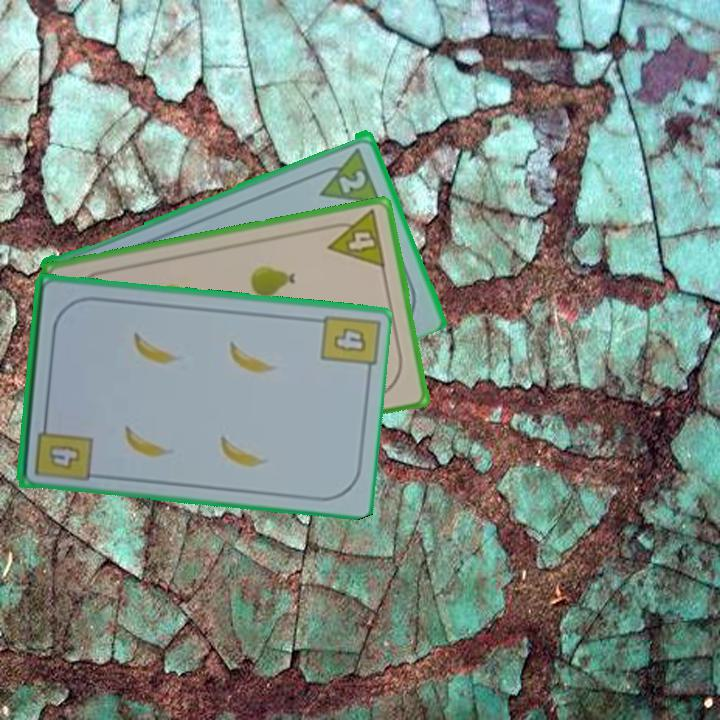2p: (335, 165, 369, 196)
4b: (31, 414, 94, 480), (330, 323, 370, 355)
4p: (321, 206, 388, 271)
